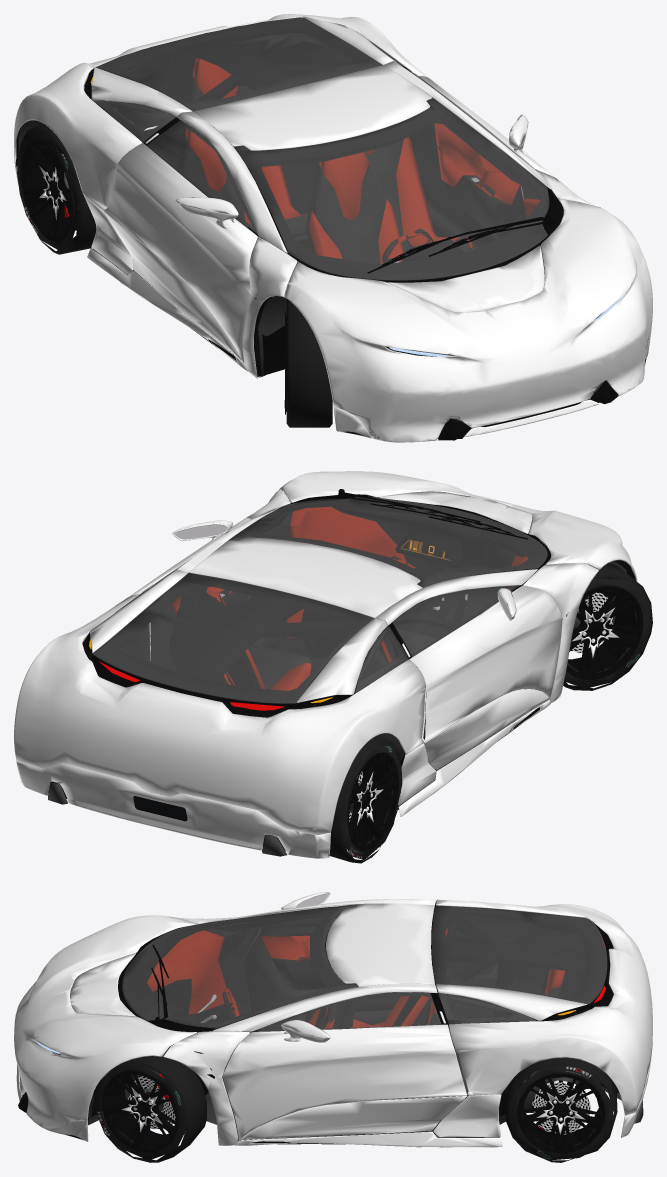
File: apex-lod.glb
The picture shows the model from 3 angles, top to bottom: view 1: azimuth 30°, elevation 25°; view 2: azimuth 150°, elevation 25°; view 3: azimuth 270°, elevation 25°; orthographic projection. The views are drawn at different scales.
Visible parts, largest first — view 1: BodyRearPanelsColor1, BodyWindshield, BodyWindshieldGasket, BodyRoofPanel, InteriorDashSides, InteriorDashMid, InteriorSeatsColor2, object 21, WheelFrontLRim, BodyUnderside, InteriorMid, InteriorSteeringDash; view 2: BodyRearPanelsColor1, BodyWindshield, BodyRoofPanel, BodyWindshieldGasket, InteriorDashMid, WheelFrontLRim, object 21, InteriorDashSides, InteriorSeatsColor2, InteriorFloormats, InteriorSteeringDash, BodyUnderside (+3 smaller); view 3: BodyRearPanelsColor1, BodyWindshield, BodyWindshieldGasket, BodyRoofPanel, object 21, WheelFrontLRim, InteriorDashMid, InteriorDashSides, InteriorMid, BodyUnderside, WheelFrontLBrakeDisc, InteriorSeatsColor2 (+1 smaller).
Part boxes in pixels (x1,y1,x2,y2): BodyRearPanelsColor1: (14,14,652,442); BodyWindshield: (94,16,548,280); BodyWindshieldGasket: (16,17,646,440); BodyRoofPanel: (15,65,651,438); InteriorDashSides: (185,58,541,349); InteriorDashMid: (16,33,526,267); InteriorSeatsColor2: (180,77,470,264); object 21: (17,124,332,427); WheelFrontLRim: (21,141,286,414); BodyUnderside: (18,77,606,430); InteriorMid: (92,173,557,375); InteriorSteeringDash: (405,239,464,261); BodyRearPanelsColor1: (14,471,637,834); BodyWindshield: (92,497,547,703); BodyRoofPanel: (16,491,550,858); BodyWindshieldGasket: (52,489,635,783); InteriorDashMid: (48,503,525,851); WheelFrontLRim: (347,577,643,850); object 21: (49,563,652,863); InteriorDashSides: (172,506,528,690); InteriorSeatsColor2: (176,609,437,689); InteriorFloormats: (269,598,467,708); InteriorSteeringDash: (395,533,462,566); BodyUnderside: (48,518,626,856); BodyRearPanelsColor1: (14,892,652,1145); BodyWindshield: (122,904,606,1031); BodyWindshieldGasket: (18,901,619,1144); BodyRoofPanel: (16,892,652,1147); object 21: (93,1054,617,1162); WheelFrontLRim: (102,1070,605,1153); InteriorDashMid: (118,907,613,1031); InteriorDashSides: (147,927,564,1099); InteriorMid: (194,922,499,1144); BodyUnderside: (38,929,643,1125); WheelFrontLBrakeDisc: (128,1075,590,1134); InteriorSeatsColor2: (305,975,560,1028).
Size of the model in its own units: 2.54 by 1.15 by 4.36.
Materials: 23 (5 with a texture image).
